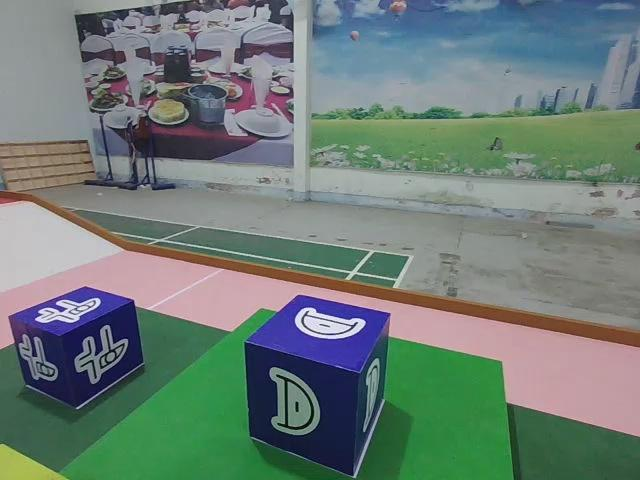R2 Real Blue: (243, 292, 394, 474), (10, 286, 145, 412)
